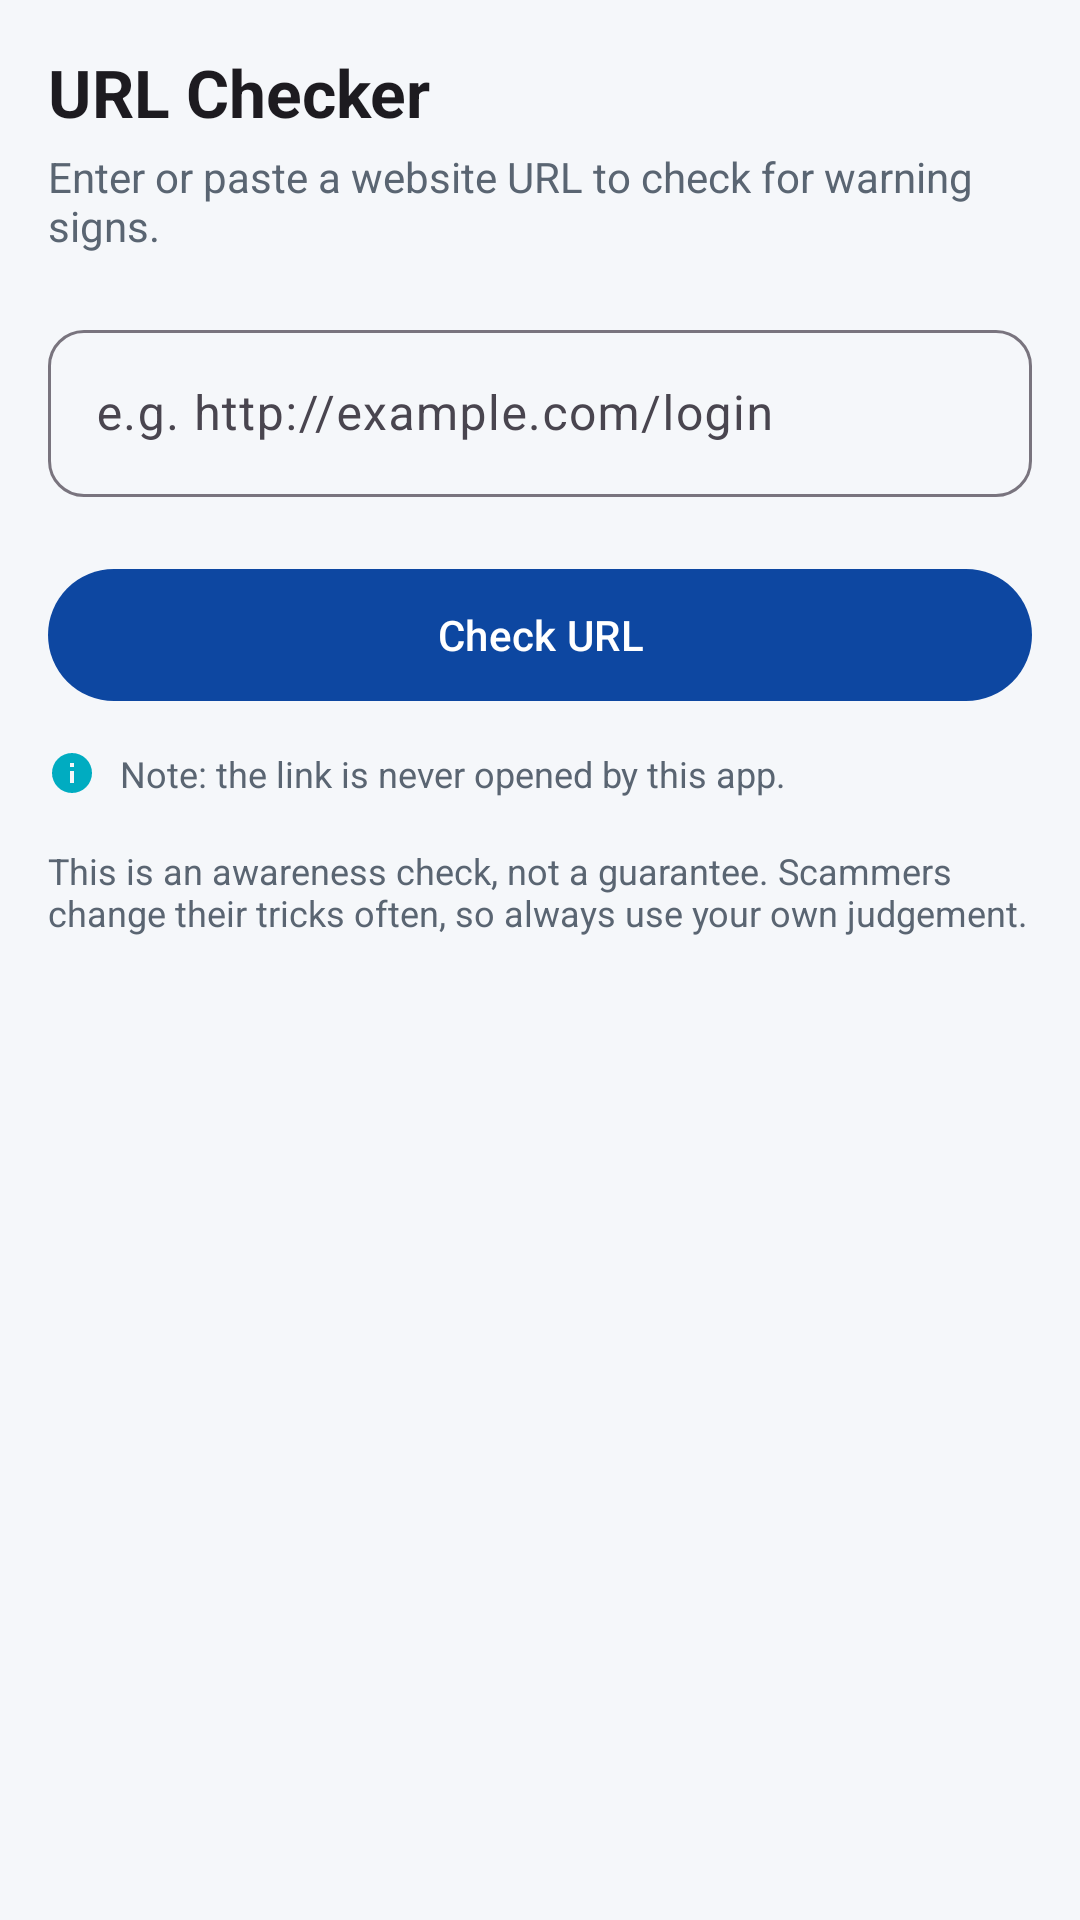

Screen size 1080*1920. Icon name, then its center in pixels as (x=x, y=y):
info: (x=72, y=773)
